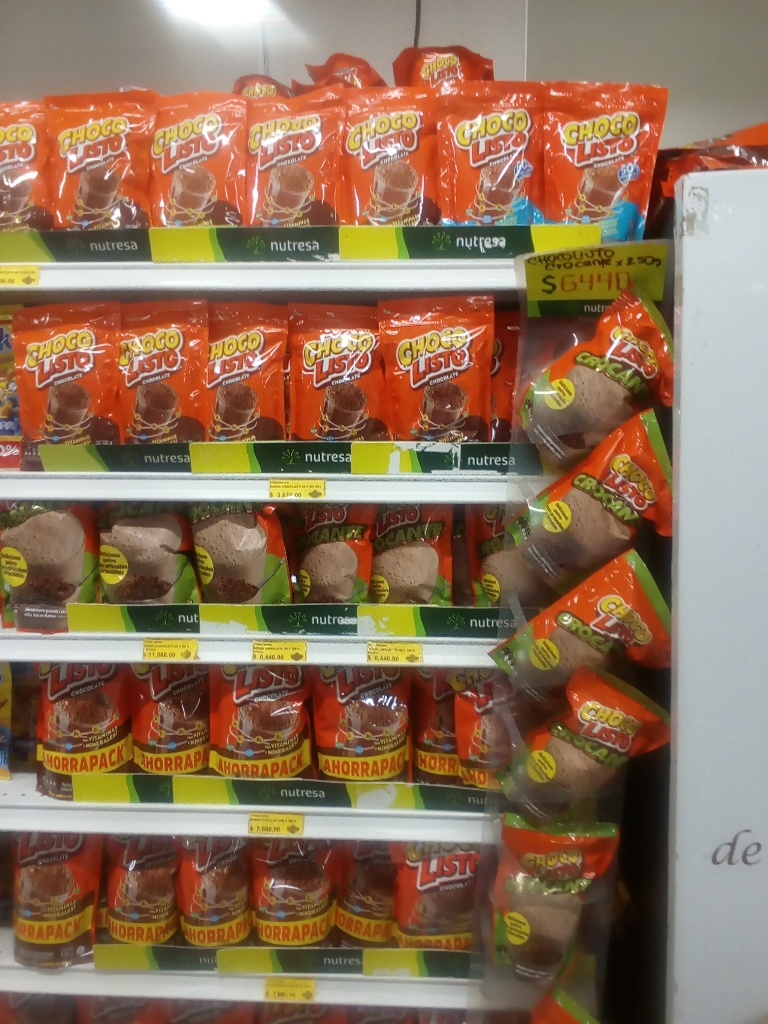COL0170102DYP25000: (369, 502, 454, 606)
COL0170102DYP50000: (187, 502, 296, 604)
COL0170103DYP20000: (337, 84, 440, 227)
COL0170103DYP40000: (312, 662, 416, 779)
COL0170104DYP20000: (543, 79, 669, 235)
